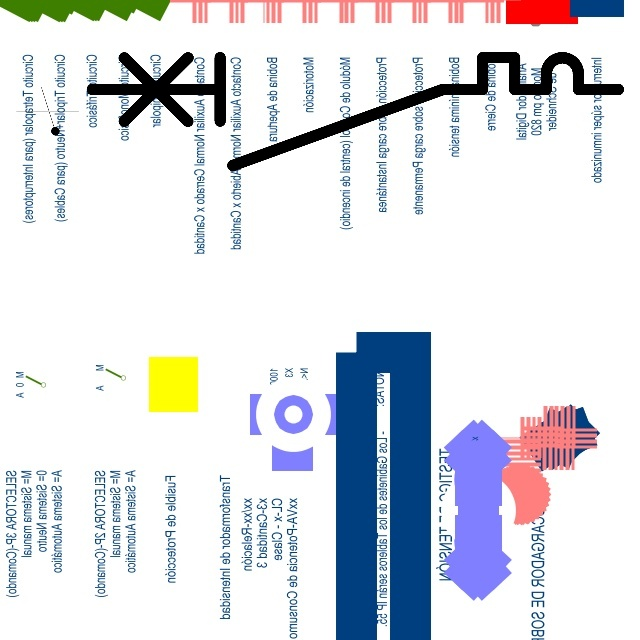interruptor_termomagnetico: (78, 44, 632, 179)
